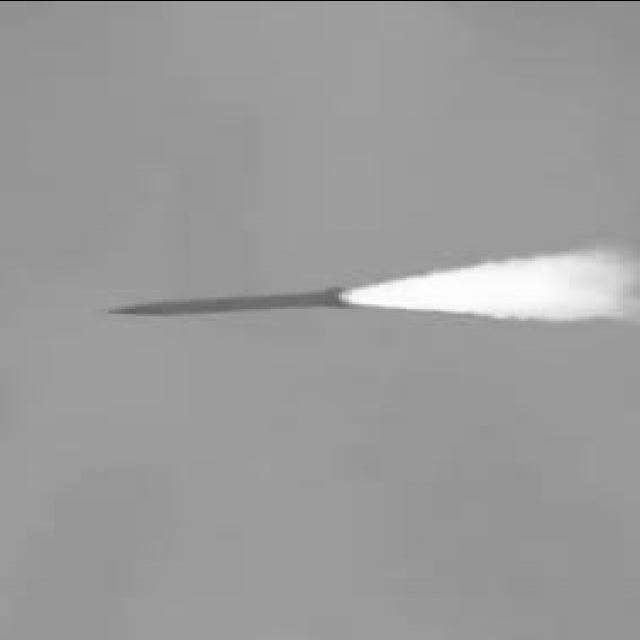Missile: (110, 287, 353, 323)
